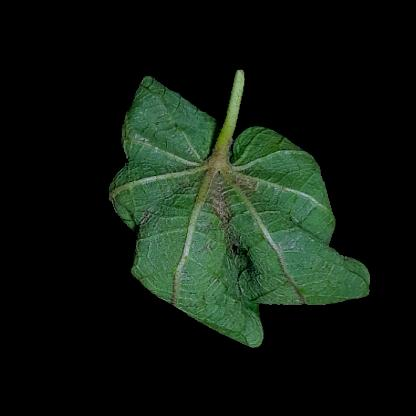curl_stage2: (218, 153, 316, 281), (137, 99, 207, 235), (141, 238, 217, 294), (319, 253, 365, 311), (211, 287, 259, 334)
